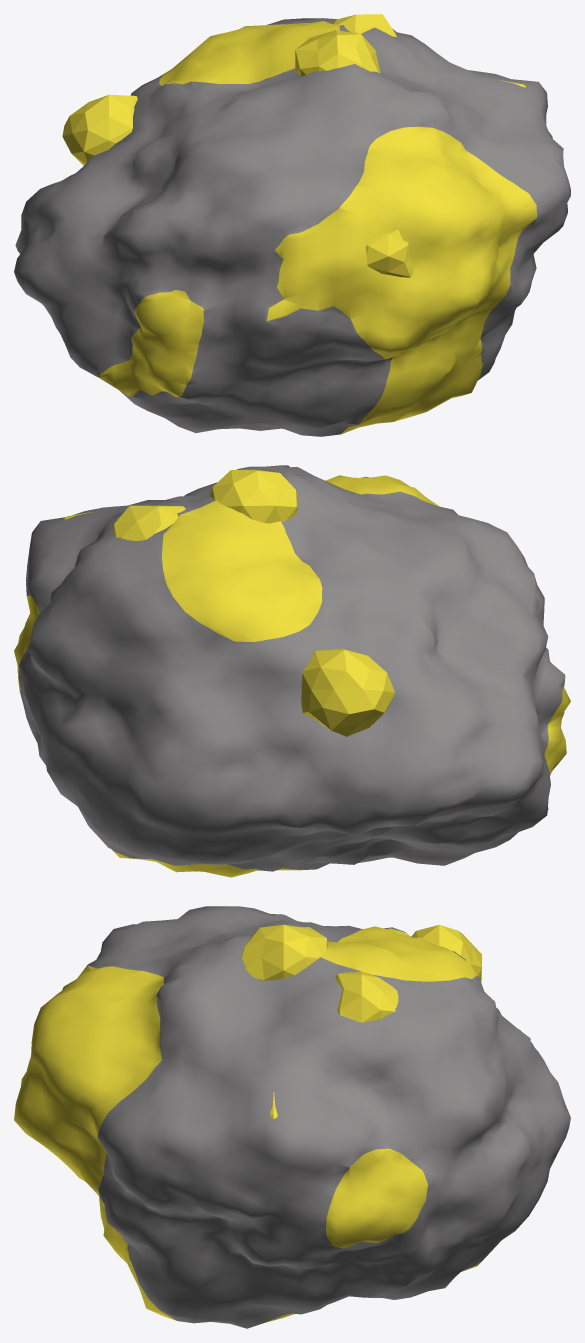
The model's file is sulfur_surface.glb.
3 views of the same model, one above another, from view 1: azimuth 30°, elevation 25°; view 2: azimuth 150°, elevation 25°; view 3: azimuth 270°, elevation 25° (orthographic). The views are drawn at different scales.
Visible parts, largest first — view 1: sulfur_surface; view 2: sulfur_surface; view 3: sulfur_surface.
Boxes of the visible parts, x1,y1,x2,y2 form: sulfur_surface: (14,14,570,436); sulfur_surface: (14,465,570,877); sulfur_surface: (14,906,570,1328).
Size of the model in its own units: 1.49 by 1.03 by 1.37.
